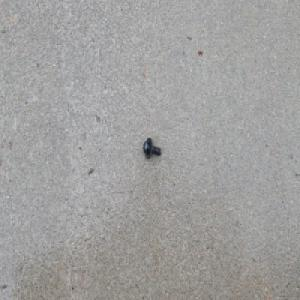BoltWasher: (142, 136, 161, 160)
